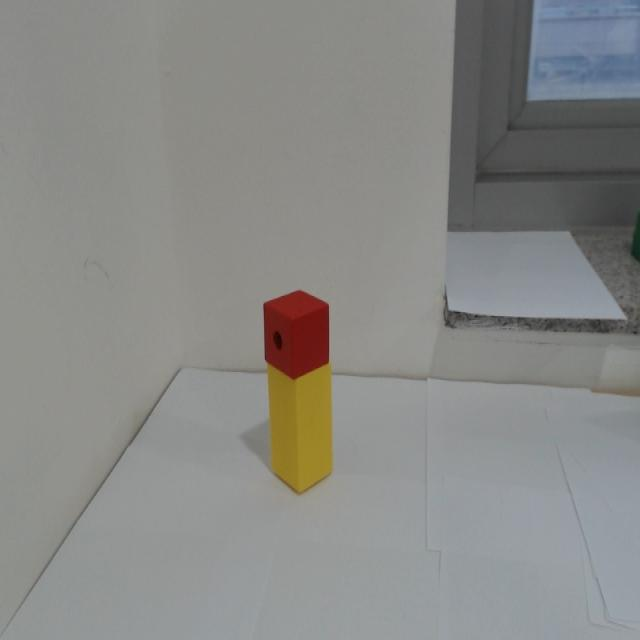cube: (262, 287, 331, 380)
